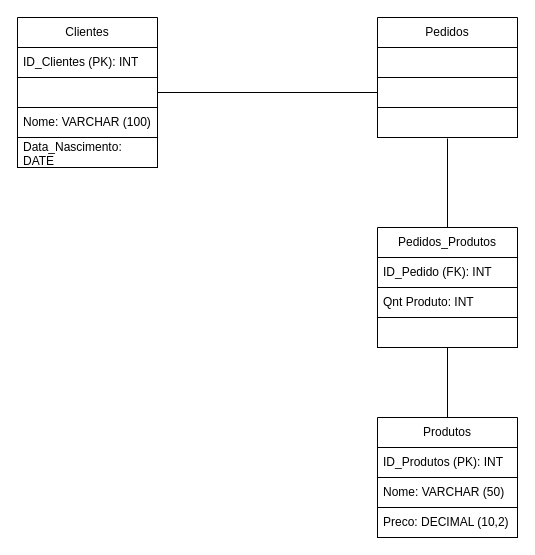
Image size: 535x555. Some labels were removed from this diagram. The shapes that lost their labels are listed below. From the top down, each one's box as (x1, y1, x2, y2) in pixels, then its label:
(376, 46, 518, 78): ID_Pedido (PK): INT
(16, 76, 158, 108): CPF (UNIQUE): CHAR (14)
(376, 76, 518, 108): Data_Pedido: DATE
(376, 106, 518, 138): ID_Cliente (FK): INT
(376, 316, 518, 348): ID_Produtos (FK): INT
